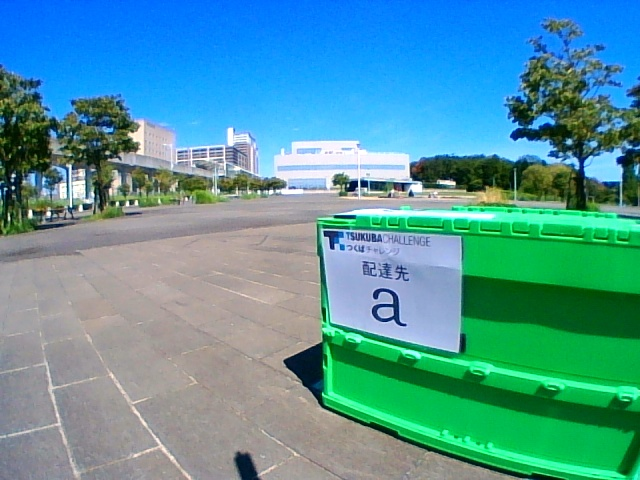green_box: (317, 205, 640, 480)
tag_a: (330, 238, 462, 326)
